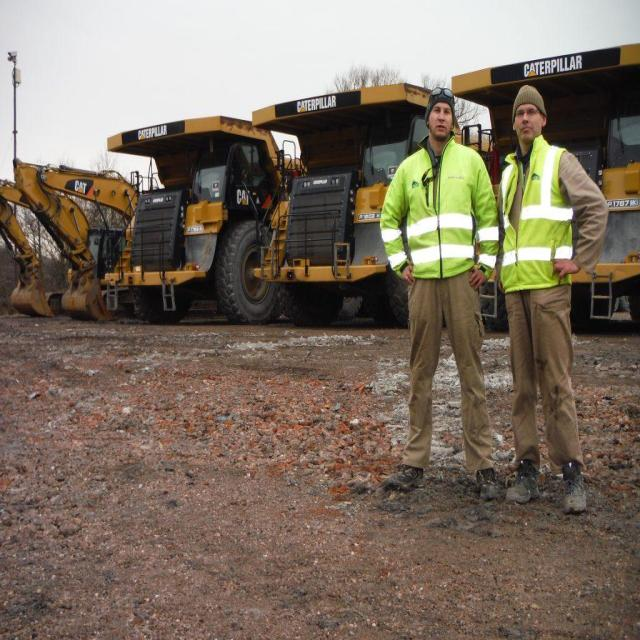dump_truck: (256, 78, 424, 310), (98, 106, 258, 330)
